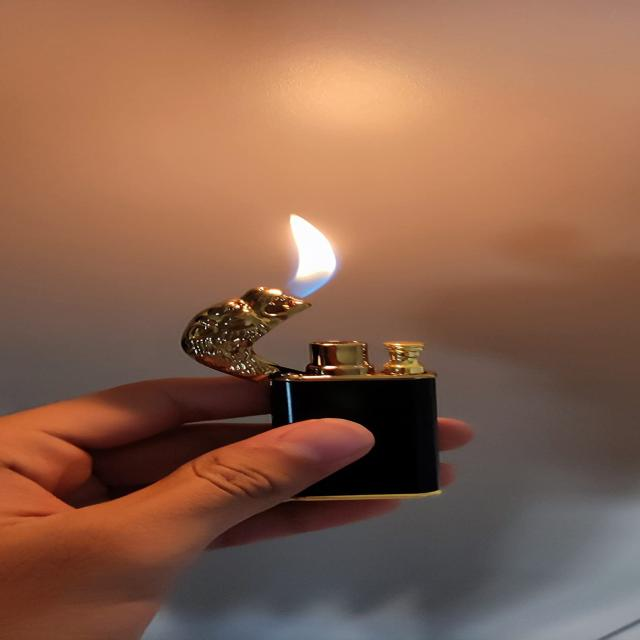fire: (283, 214, 340, 299)
